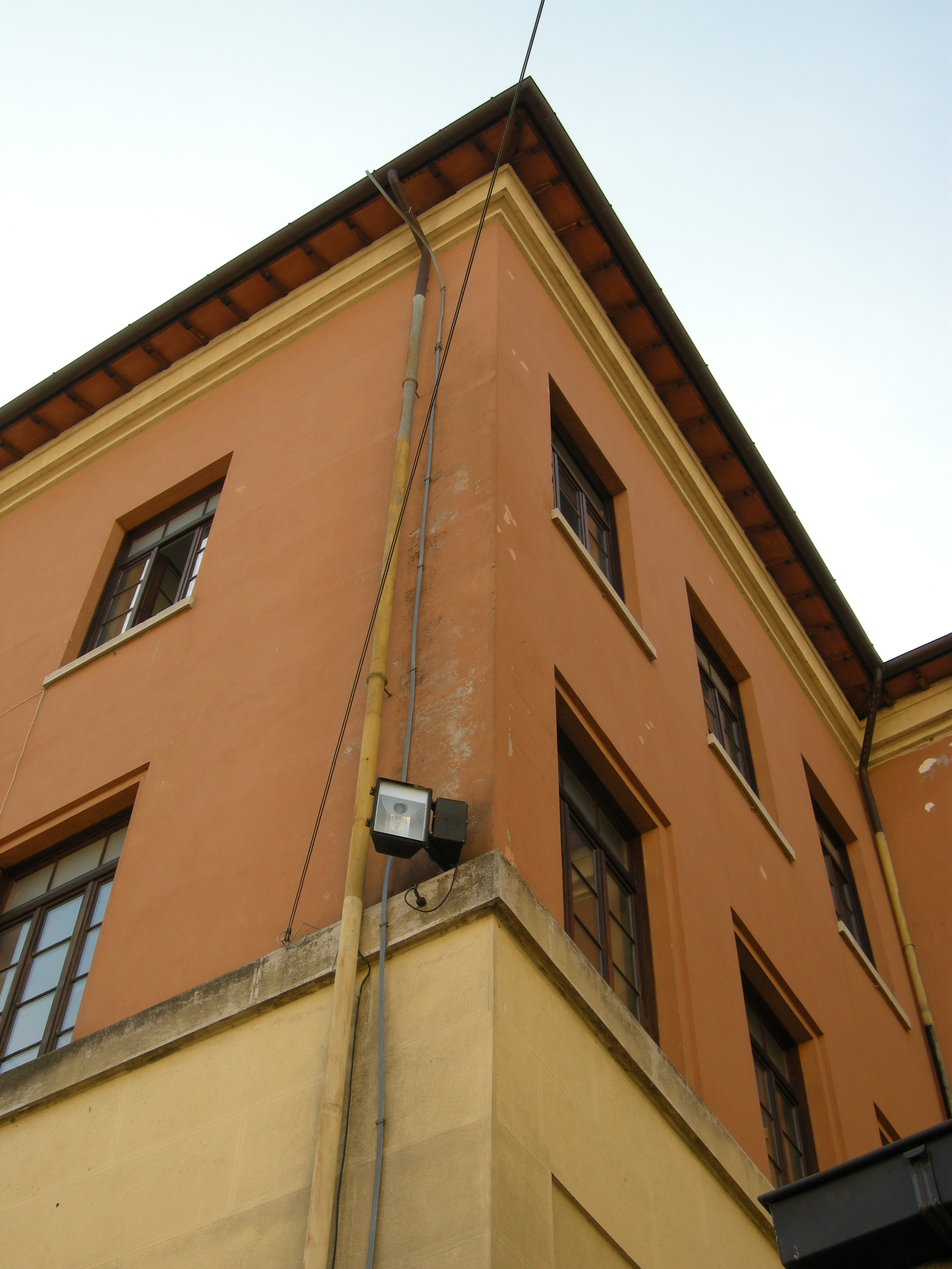Spalling: (415, 677, 484, 776), (421, 528, 449, 646), (911, 752, 947, 783), (922, 798, 939, 816)
